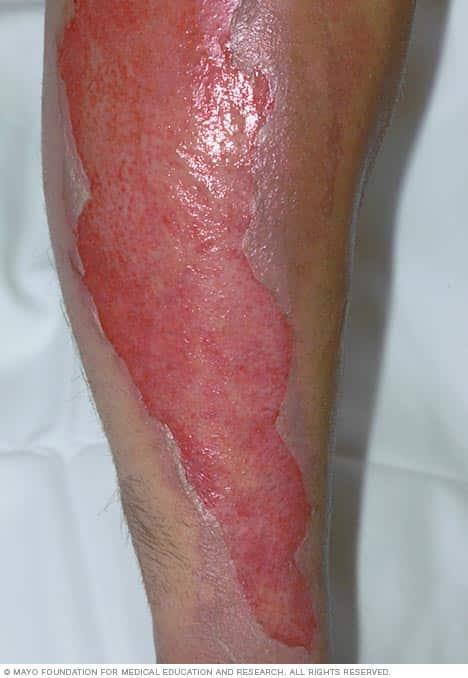burned-skin: (44, 0, 392, 662)
